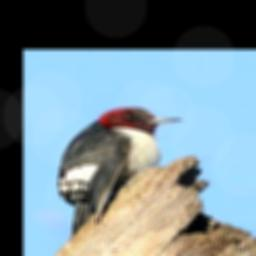Woodpecker: (55, 106, 184, 235)
